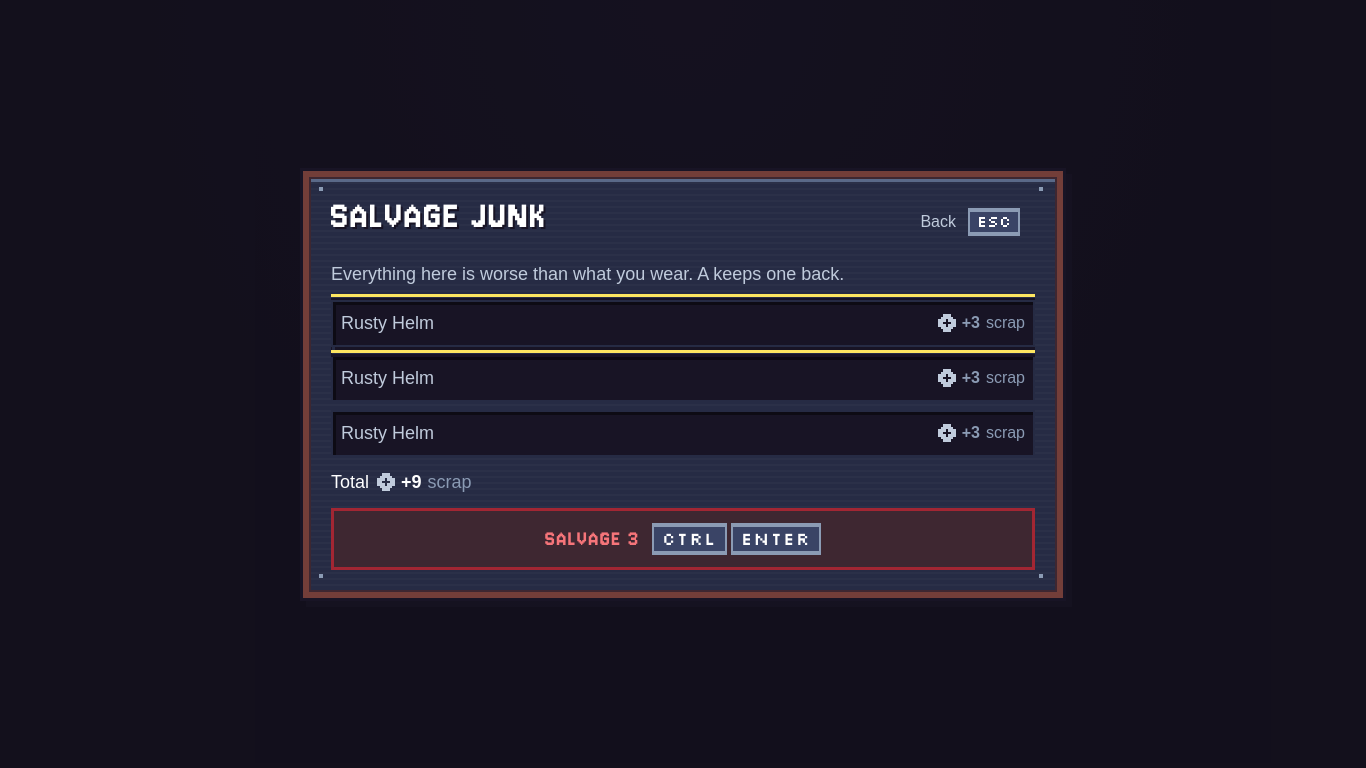
Test case: JunkSheet › A on a row keeps it back (pressed), again lets it go; the total and the count follow
Click the 2nd button with test id "junk-row": (388, 378) [331,354,1035,402]
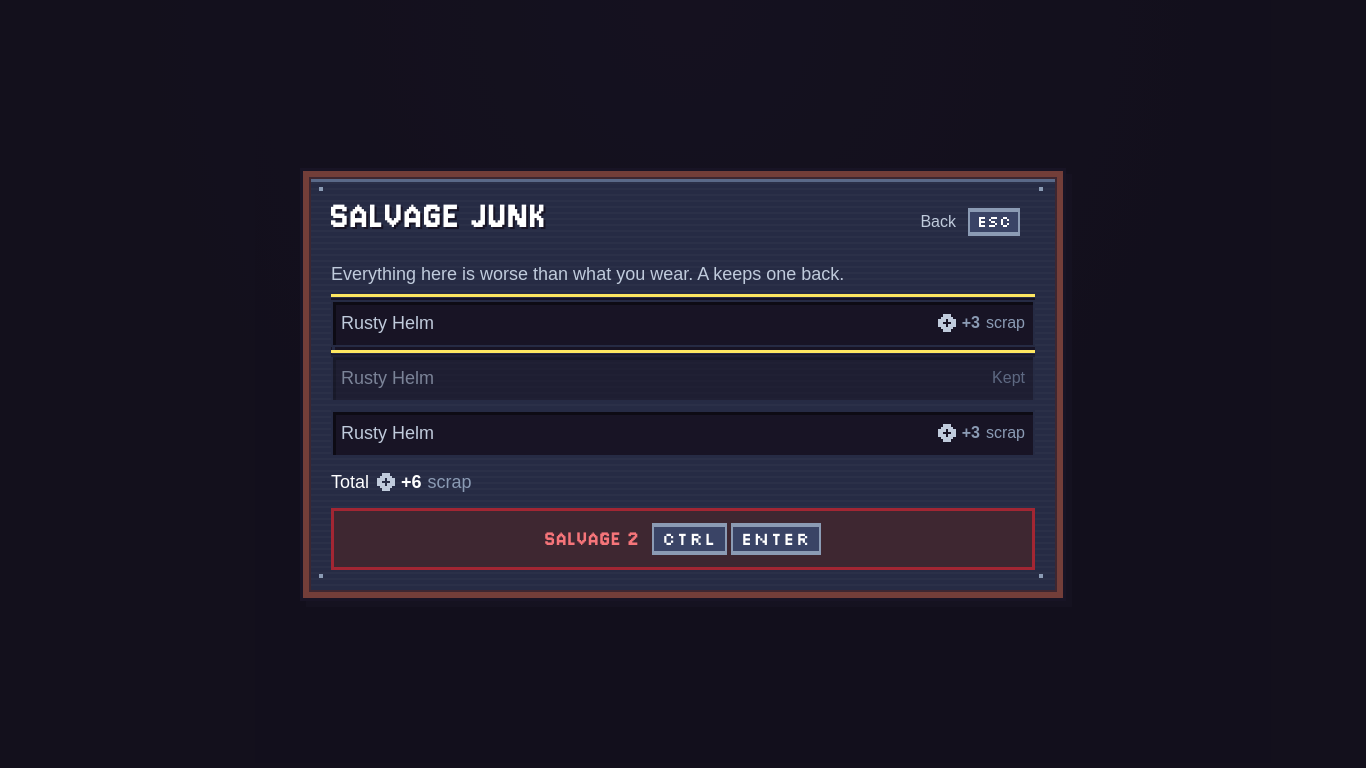
Check: the button with test id "junk-row" shows "Kept"
Check: the button with test id "junk-salvage" shows "Salvage 2", box [331,508,1035,570]
Click the button with test id "junk-row" showing "Rusty Helm Kept": (388, 378) [331,354,1035,402]
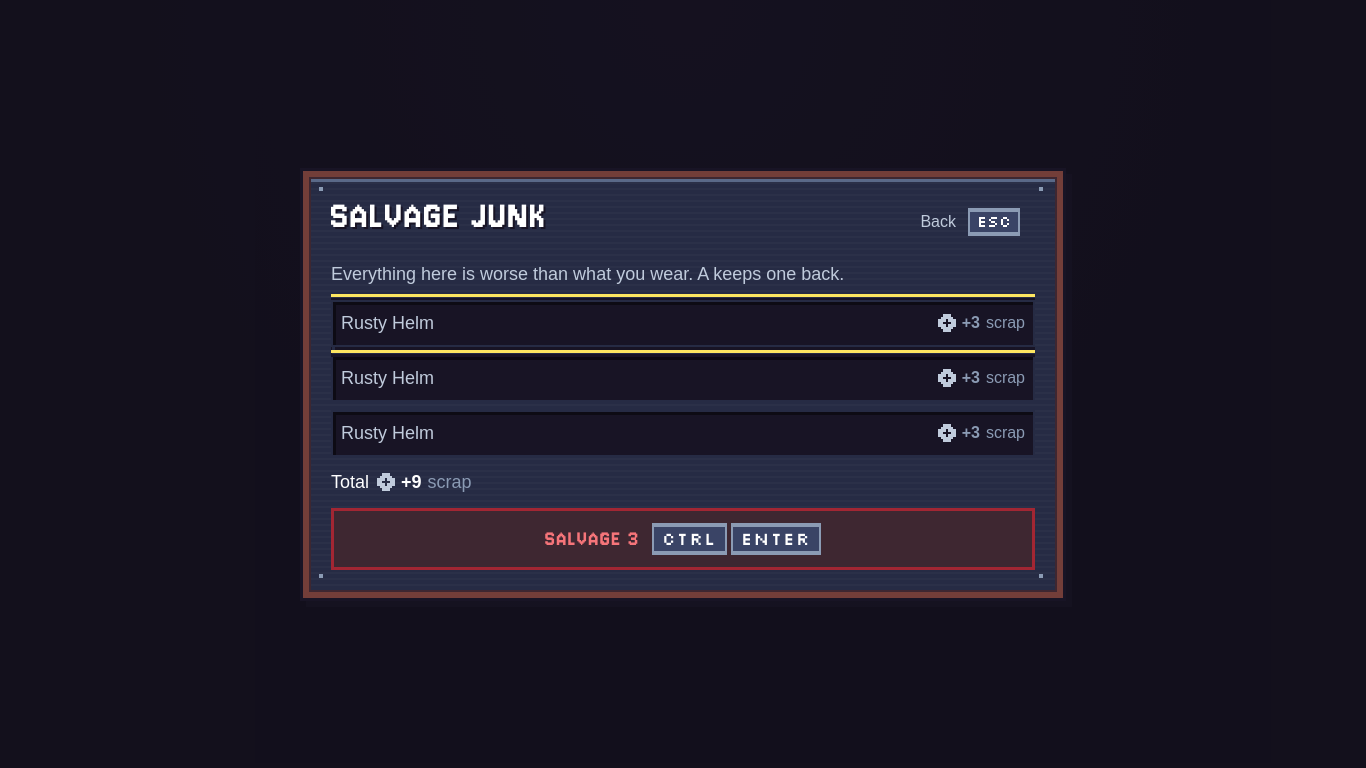
Check: the button with test id "junk-salvage" shows "Salvage 3", box [331,508,1035,570]
